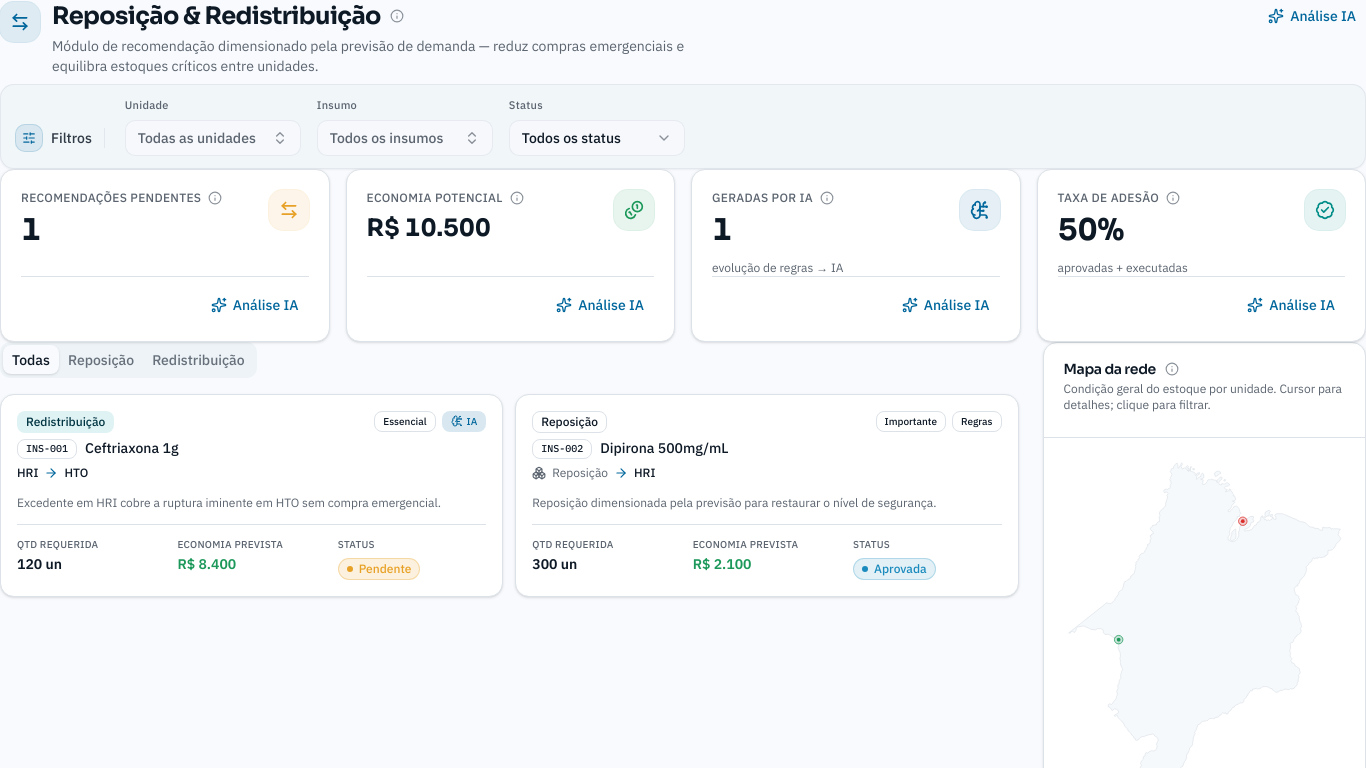
Análise por IA nas telas › abre o modal de análise por IA em Recomendações
This screenshot has width=1366, height=768.
Step 1. Click the button "Análise IA" in the row of "Reposição & Redistribuição" → {"x": 1312, "y": 16}, box [1258,0,1365,32]
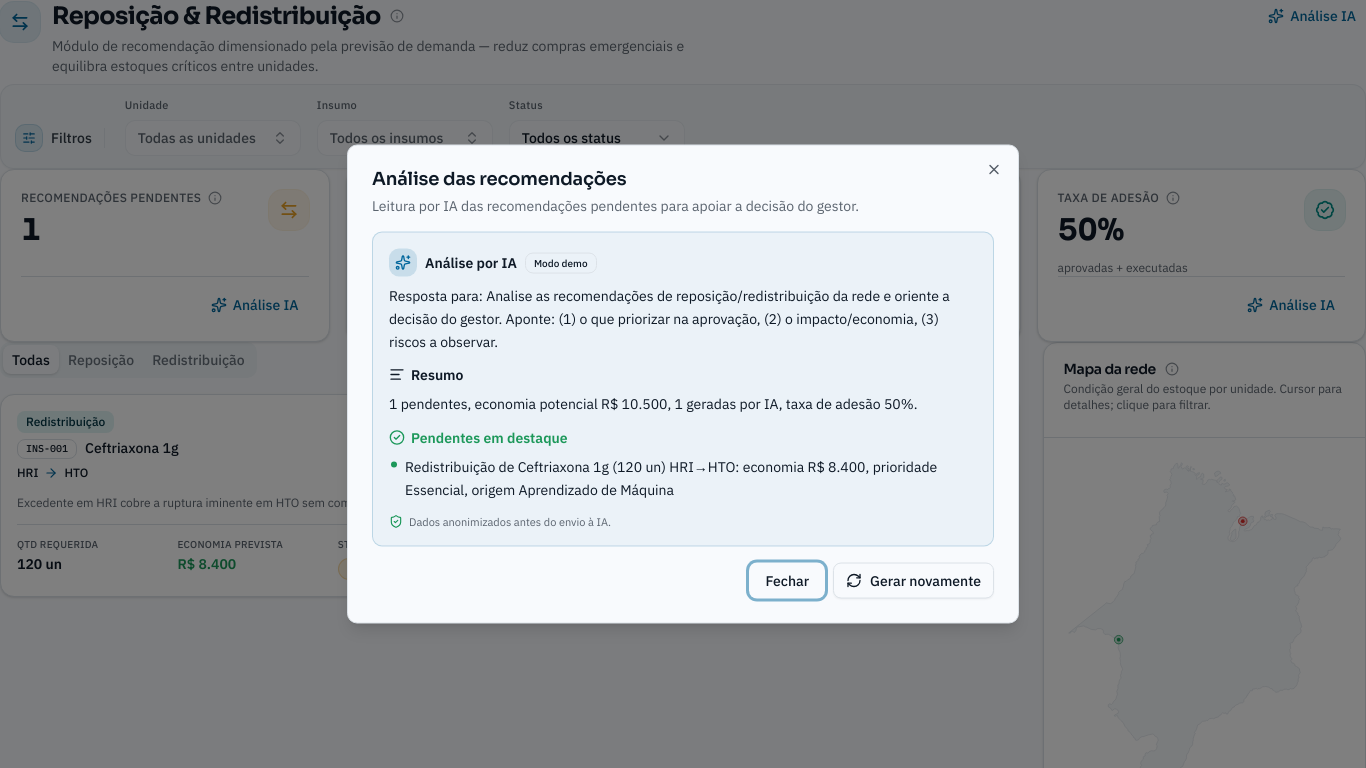
expect the text "Análise por IA" is shown: met, box [425,252,517,272]
expect the text "Resposta para:" is shown: met, box [389,286,950,350]
